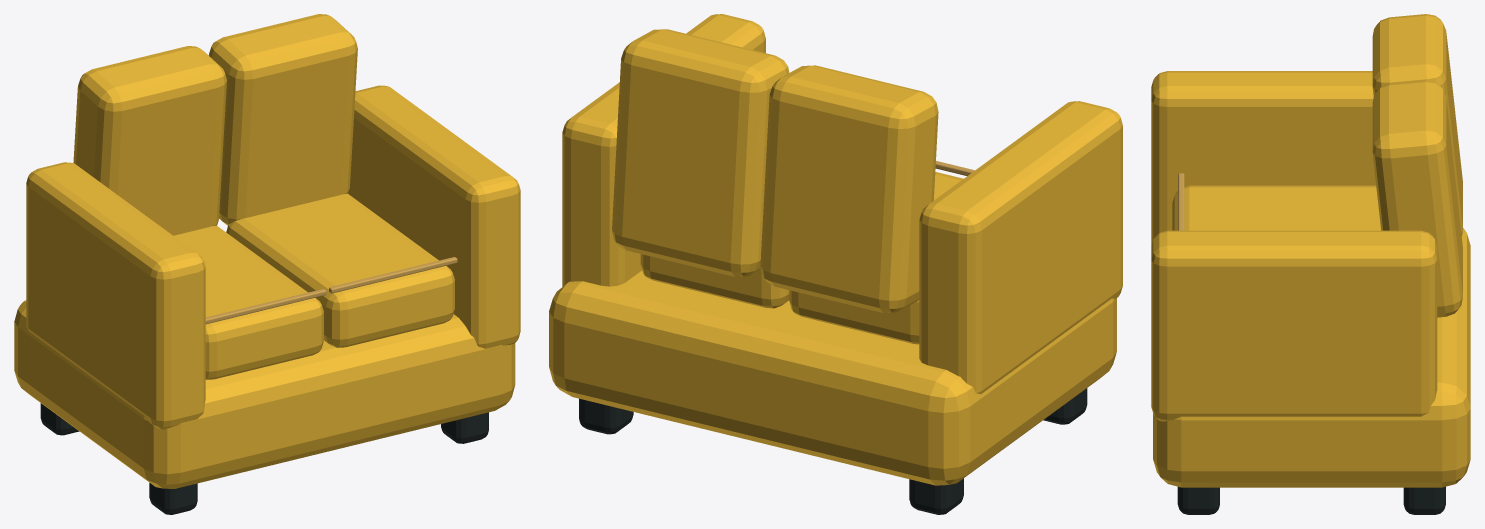
File: hiperreal.glb
3 renders of one model, left to right at view 1: azimuth 30°, elevation 25°; view 2: azimuth 150°, elevation 25°; view 3: azimuth 270°, elevation 25°, orthographic. The views are drawn at different scales.
Parts seen in each view (by area): view 1: Upholstered base, Armrest, Armrest.001, Back cushion.001, Back cushion, Seat cushion.001, Seat cushion, Sofa foot.001, Sofa foot.003, Upholstery piping.001, Upholstery piping, Sofa foot; view 2: Upholstered base, Armrest, Back cushion, Back cushion.001, Armrest.001, Seat cushion, Seat cushion.001, Sofa foot, Sofa foot.002, Sofa foot.001; view 3: Armrest.001, Upholstered base, Armrest, Back cushion.001, Seat cushion, Back cushion, Sofa foot.002, Sofa foot.003, Upholstery piping.
Boxes of the visible parts, left/top/right/bottom form: Upholstered base: left=14, top=300, right=515, bottom=488; Armrest: left=26, top=162, right=205, bottom=429; Armrest.001: left=348, top=85, right=520, bottom=348; Back cushion.001: left=209, top=14, right=357, bottom=225; Back cushion: left=73, top=46, right=226, bottom=235; Seat cushion.001: left=226, top=193, right=454, bottom=347; Seat cushion: left=173, top=225, right=323, bottom=379; Sofa foot.001: left=149, top=483, right=197, bottom=514; Sofa foot.003: left=441, top=412, right=488, bottom=443; Upholstery piping.001: left=329, top=257, right=457, bottom=293; Upholstery piping: left=205, top=289, right=326, bottom=324; Sofa foot: left=40, top=403, right=79, bottom=435; Upholstered base: left=549, top=270, right=1116, bottom=485; Armrest: left=919, top=101, right=1122, bottom=394; Back cushion: left=760, top=65, right=938, bottom=312; Back cushion.001: left=612, top=29, right=789, bottom=276; Armrest.001: left=562, top=14, right=765, bottom=286; Seat cushion: left=789, top=172, right=963, bottom=344; Seat cushion.001: left=640, top=254, right=789, bottom=308; Sofa foot: left=909, top=478, right=963, bottom=514; Sofa foot.002: left=579, top=398, right=633, bottom=434; Sofa foot.001: left=1043, top=388, right=1087, bottom=424; Armrest.001: left=1151, top=230, right=1437, bottom=421; Upholstered base: left=1153, top=228, right=1470, bottom=487; Armrest: left=1151, top=71, right=1375, bottom=245; Back cushion.001: left=1372, top=80, right=1462, bottom=317; Seat cushion: left=1172, top=185, right=1380, bottom=230; Back cushion: left=1372, top=14, right=1462, bottom=236; Sofa foot.002: left=1403, top=486, right=1445, bottom=514; Sofa foot.003: left=1177, top=487, right=1219, bottom=514; Upholstery piping: left=1178, top=173, right=1184, bottom=230.
Bounding box in the file's own units: 1 × 0.907 × 0.724.
